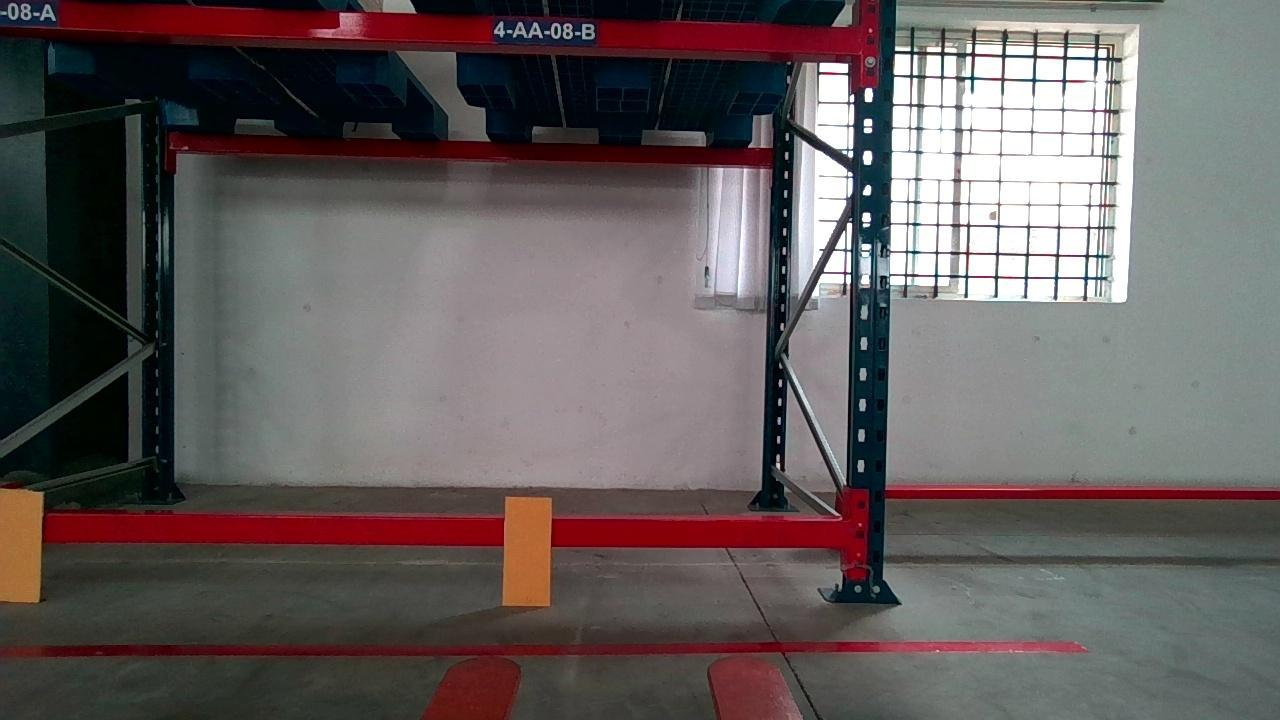h_rack: (0, 4, 878, 57), (48, 514, 848, 550)
orange_strip: (498, 496, 551, 607), (1, 488, 44, 602)
red_line: (3, 639, 1095, 657)
